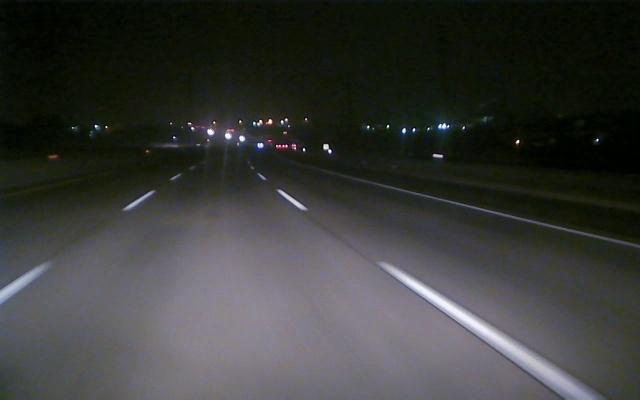lane: (258, 174, 607, 399), (371, 182, 640, 248), (2, 190, 155, 303)
